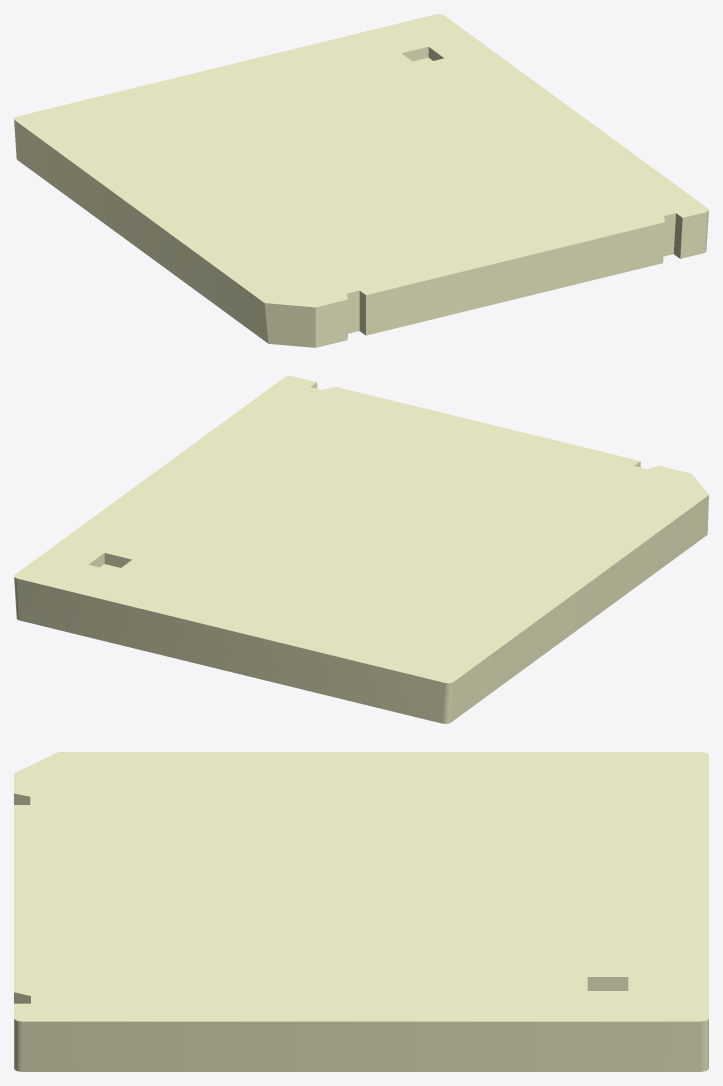
The model's file is Disquette.glb.
3 renders of one model, top to bottom at view 1: azimuth 30°, elevation 25°; view 2: azimuth 150°, elevation 25°; view 3: azimuth 270°, elevation 25°, orthographic. The views are drawn at different scales.
Parts seen in each view (by area): view 1: Cube; view 2: Cube; view 3: Cube.
Boxes of the visible parts, left/top/right/bottom form: Cube: left=14, top=14, right=708, bottom=347; Cube: left=14, top=376, right=708, bottom=723; Cube: left=14, top=752, right=708, bottom=1071.
Size of the model in its own units: 0.9424 by 0.0848 by 1.03.
